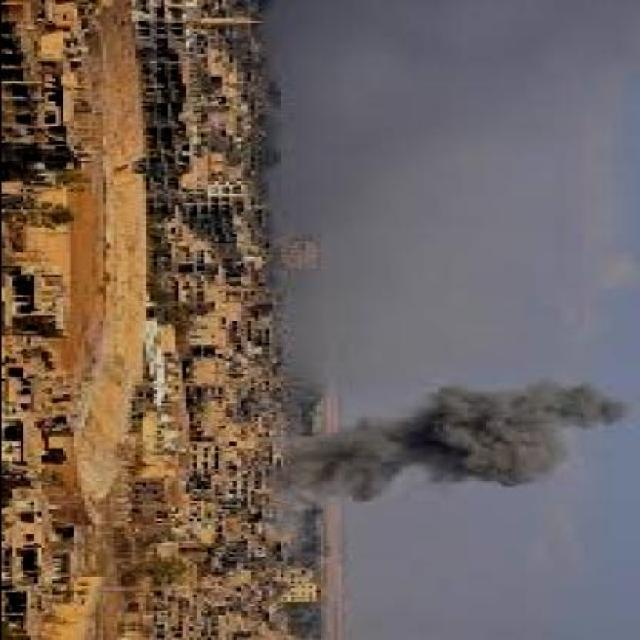Smoke: (278, 374, 632, 516)
